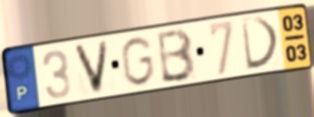3: (41, 48, 72, 100)
7: (208, 20, 237, 77)
B: (156, 26, 198, 85)
D: (239, 15, 283, 73)
G: (118, 35, 156, 88)
V: (71, 38, 111, 97)
